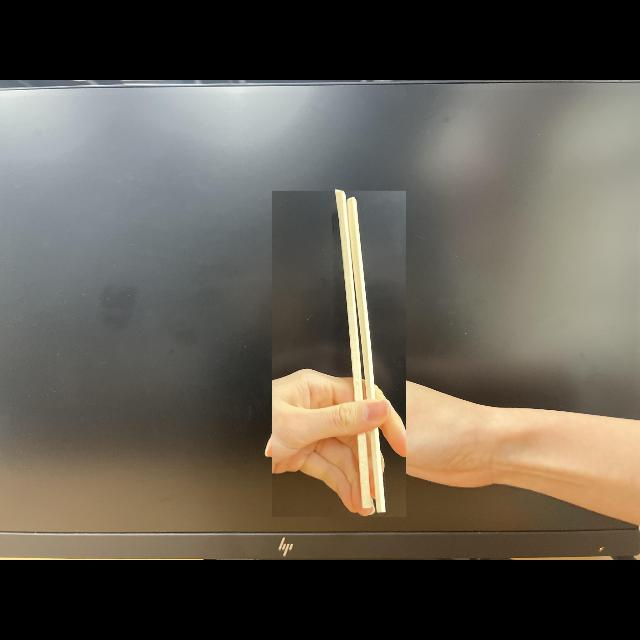stick: (272, 191, 406, 517)
